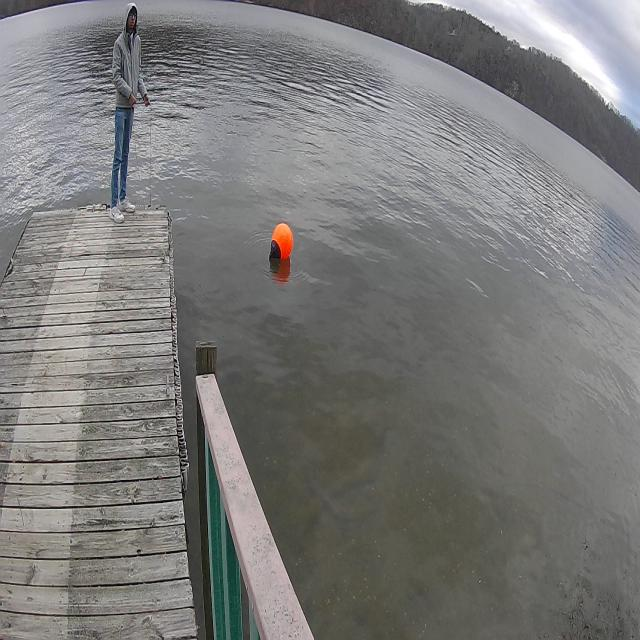Buoy: (267, 215, 295, 270)
